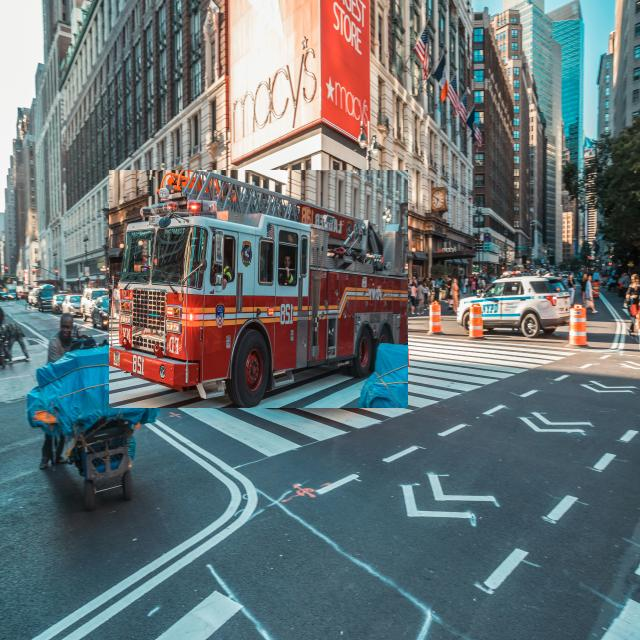car: (456, 276, 570, 338)
emergency: (110, 170, 408, 408)
